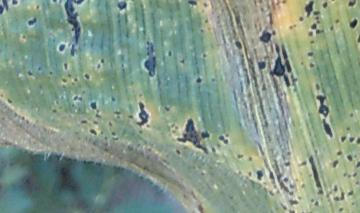tarspot: (177, 118, 208, 154), (65, 1, 84, 45), (143, 40, 157, 78), (309, 156, 321, 188), (135, 102, 150, 125), (269, 56, 285, 76), (316, 94, 329, 117), (321, 118, 333, 139), (304, 1, 314, 19), (280, 44, 288, 59), (280, 179, 288, 193), (261, 31, 271, 42), (288, 196, 299, 206), (282, 75, 291, 87), (255, 169, 264, 181), (27, 17, 37, 26), (257, 61, 266, 71), (235, 39, 243, 50), (274, 43, 281, 55), (286, 59, 292, 73), (197, 204, 206, 213), (117, 1, 127, 9), (291, 74, 297, 87), (350, 18, 357, 29), (314, 81, 321, 92), (261, 81, 268, 92), (89, 128, 98, 136), (280, 202, 289, 210), (2, 1, 9, 11), (70, 45, 76, 56), (333, 183, 339, 194), (268, 11, 273, 24), (316, 188, 324, 196), (84, 72, 91, 81), (200, 131, 209, 138), (347, 1, 357, 7), (268, 171, 274, 181), (321, 1, 328, 9), (309, 23, 317, 30), (340, 135, 347, 143), (288, 182, 296, 189), (91, 101, 97, 110), (333, 159, 339, 168), (58, 44, 65, 51), (164, 105, 171, 112), (298, 15, 305, 22), (308, 38, 315, 45), (349, 136, 356, 143), (288, 190, 295, 197), (347, 189, 354, 196), (80, 119, 88, 125), (110, 95, 116, 103), (218, 134, 226, 140), (306, 51, 314, 57), (349, 110, 355, 118), (247, 170, 253, 178), (347, 154, 353, 162), (338, 207, 346, 213), (352, 169, 358, 177), (311, 148, 319, 154), (340, 191, 345, 200), (27, 70, 33, 77), (7, 98, 14, 104), (61, 77, 68, 83), (96, 113, 102, 120), (195, 77, 202, 83), (201, 51, 207, 58), (203, 17, 209, 24), (271, 29, 277, 36), (314, 9, 321, 15), (334, 18, 340, 25), (308, 30, 314, 37), (300, 160, 307, 166), (283, 176, 289, 183), (313, 201, 320, 207), (269, 190, 275, 197), (286, 149, 292, 156), (63, 62, 68, 70), (187, 1, 197, 5), (283, 161, 291, 166), (48, 70, 54, 76), (198, 28, 204, 34), (336, 150, 342, 156), (300, 182, 306, 188), (334, 195, 340, 201), (51, 108, 58, 113), (100, 57, 105, 64), (108, 120, 113, 127), (168, 50, 173, 57), (236, 154, 243, 159), (355, 161, 360, 168), (1, 5, 4, 16), (357, 33, 360, 44), (316, 30, 324, 34), (35, 4, 40, 10), (36, 66, 42, 71), (73, 76, 78, 82), (73, 95, 78, 101), (93, 120, 99, 125), (128, 114, 134, 119), (179, 59, 185, 64), (176, 150, 182, 155), (171, 129, 177, 134), (224, 139, 229, 145), (210, 77, 215, 83), (248, 156, 253, 162), (310, 62, 315, 68), (314, 15, 320, 20), (342, 172, 347, 178), (11, 1, 18, 5), (114, 111, 121, 115), (330, 25, 334, 32), (138, 130, 143, 135), (170, 123, 175, 128), (300, 61, 305, 66), (355, 180, 360, 185), (21, 35, 27, 39), (97, 63, 101, 69), (111, 132, 117, 136), (212, 146, 216, 152), (351, 200, 355, 206), (66, 74, 73, 77), (112, 137, 119, 140), (79, 96, 83, 101), (146, 124, 151, 128), (204, 3, 209, 7), (316, 20, 321, 24), (346, 127, 351, 131), (290, 209, 295, 213), (357, 138, 360, 144), (1, 93, 5, 97), (100, 131, 104, 135), (288, 26, 293, 29), (281, 1, 286, 4), (117, 116, 121, 119), (53, 1, 58, 3)
